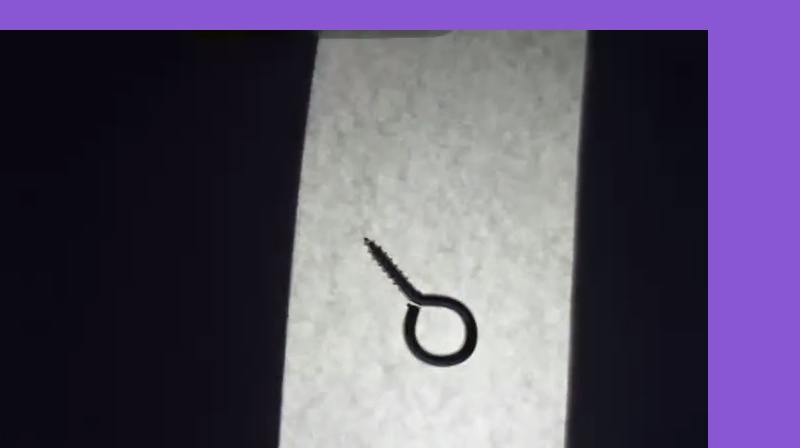O001: (356, 231, 484, 371)
